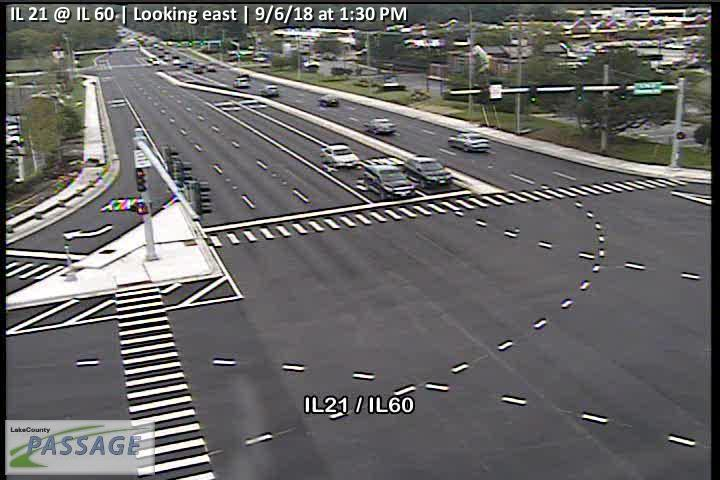SUV: (363, 164, 416, 200), (404, 156, 454, 188), (319, 94, 340, 106), (261, 85, 279, 96), (232, 77, 249, 87)
Sedan: (321, 144, 360, 168), (447, 132, 491, 153), (364, 117, 396, 134)
